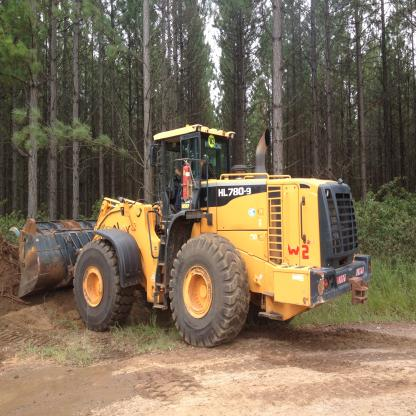bull_dozer/loader/grader: (13, 107, 380, 361)
